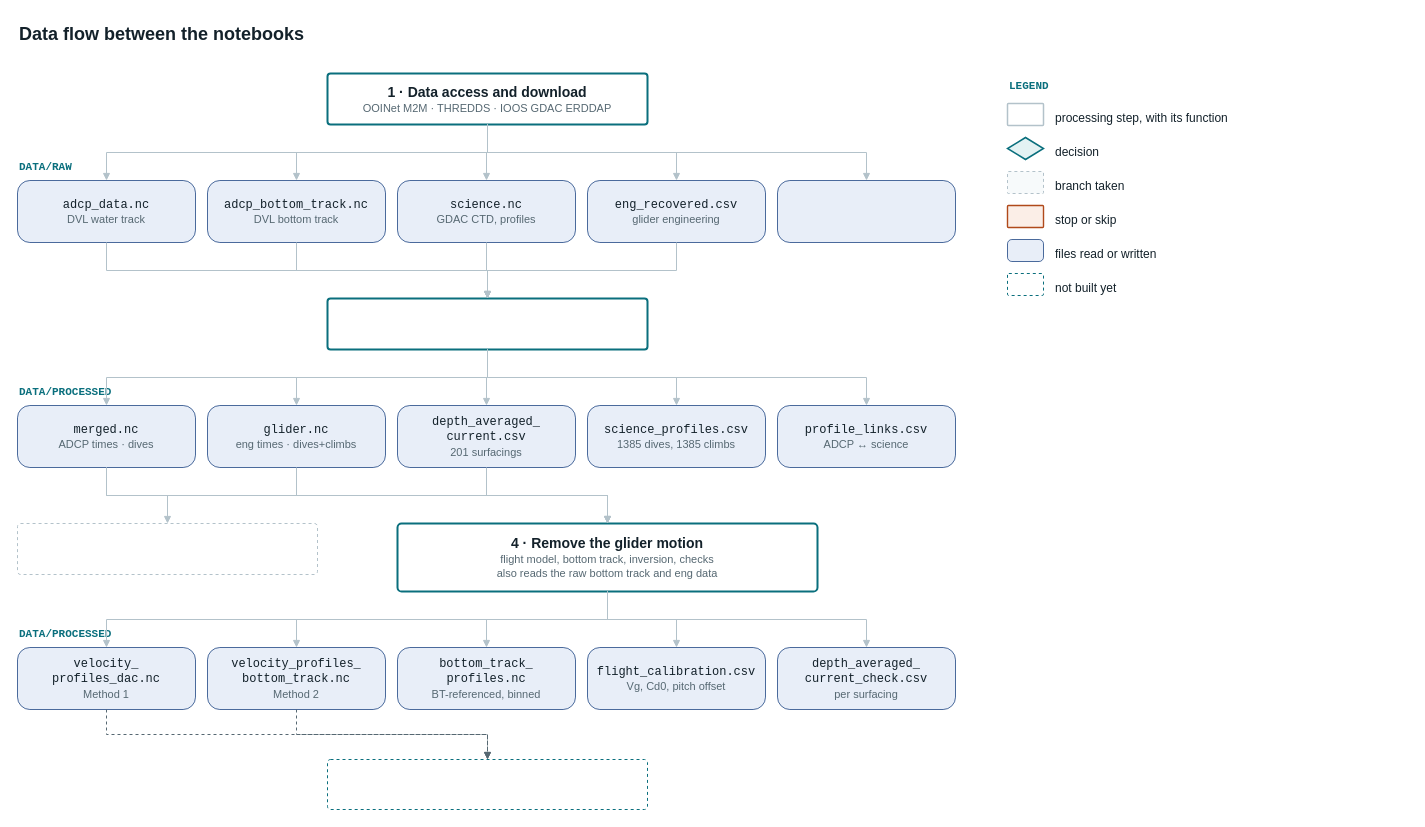
The diagram is 1425 pixels wide and 827 high, and some of its shapes have lost their labels. Each missing label, with the centre of its shape:
2 · Process and merge corrections, merge, profiles, links: the point at 487,323
3 · 3.1 · Data analysis exploratory: track maps, QC, simple bins: the point at 167,548
mooring_locations.csv Pioneer moorings: the point at 866,211
Next · objective mapping of sections not built yet: the point at 487,784
